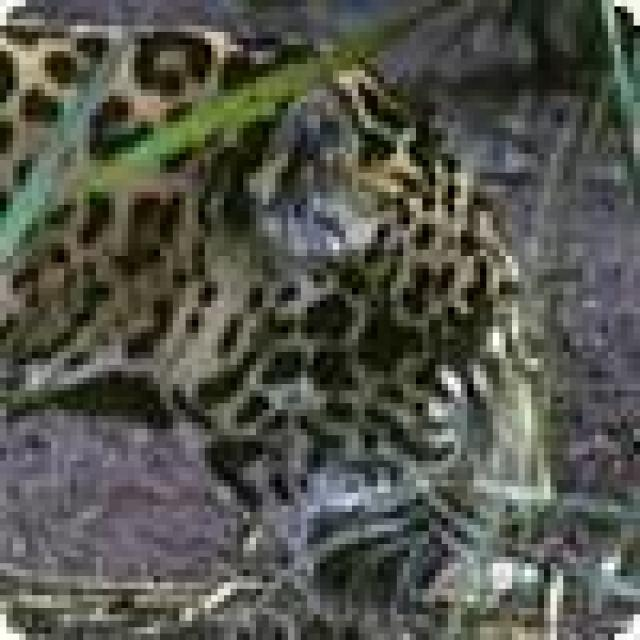Leopard: (0, 13, 550, 621)
